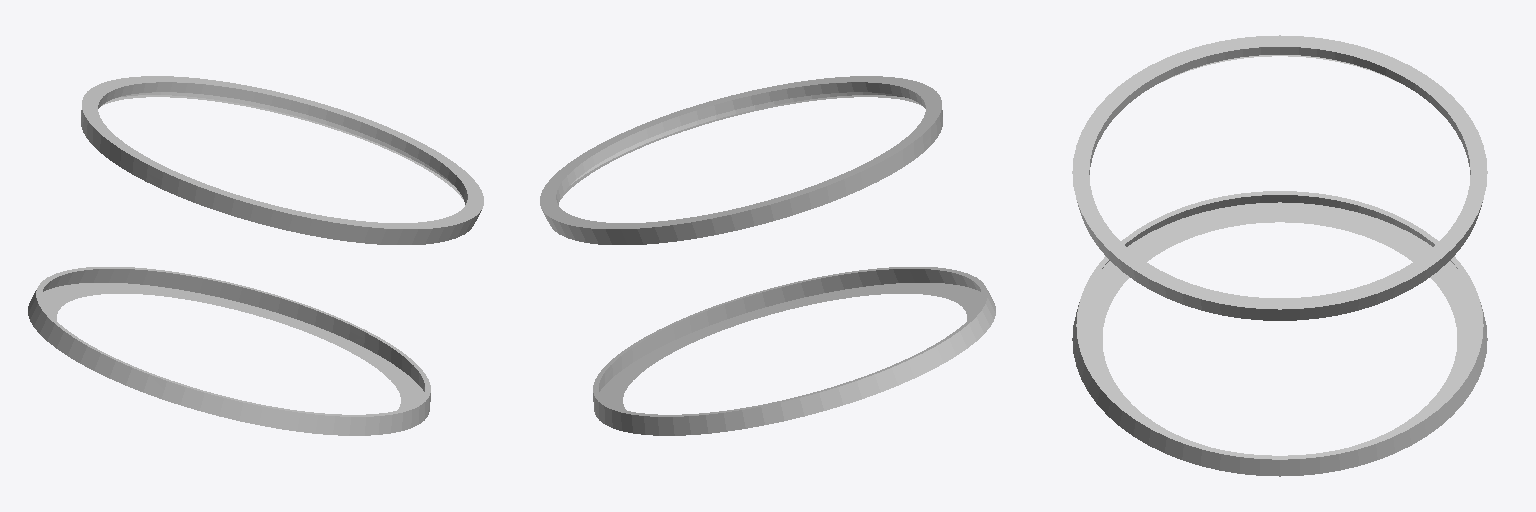
Rendered from drumsetV4_DrumRings001_Keyframe.obj.
3 renders of one model, left to right at view 1: azimuth 30°, elevation 25°; view 2: azimuth 150°, elevation 25°; view 3: azimuth 270°, elevation 25°, orthographic.
Visible parts, largest first — view 1: drumsetV4_DrumRings001_Cylinder.039; view 2: drumsetV4_DrumRings001_Cylinder.039; view 3: drumsetV4_DrumRings001_Cylinder.039.
Boxes of the visible parts, box(x1,y1,x2,y2) form: drumsetV4_DrumRings001_Cylinder.039: box(28, 76, 483, 435); drumsetV4_DrumRings001_Cylinder.039: box(540, 76, 995, 435); drumsetV4_DrumRings001_Cylinder.039: box(1072, 35, 1487, 476).
Size of the model in its own units: 1.24 by 0.8855 by 1.11.